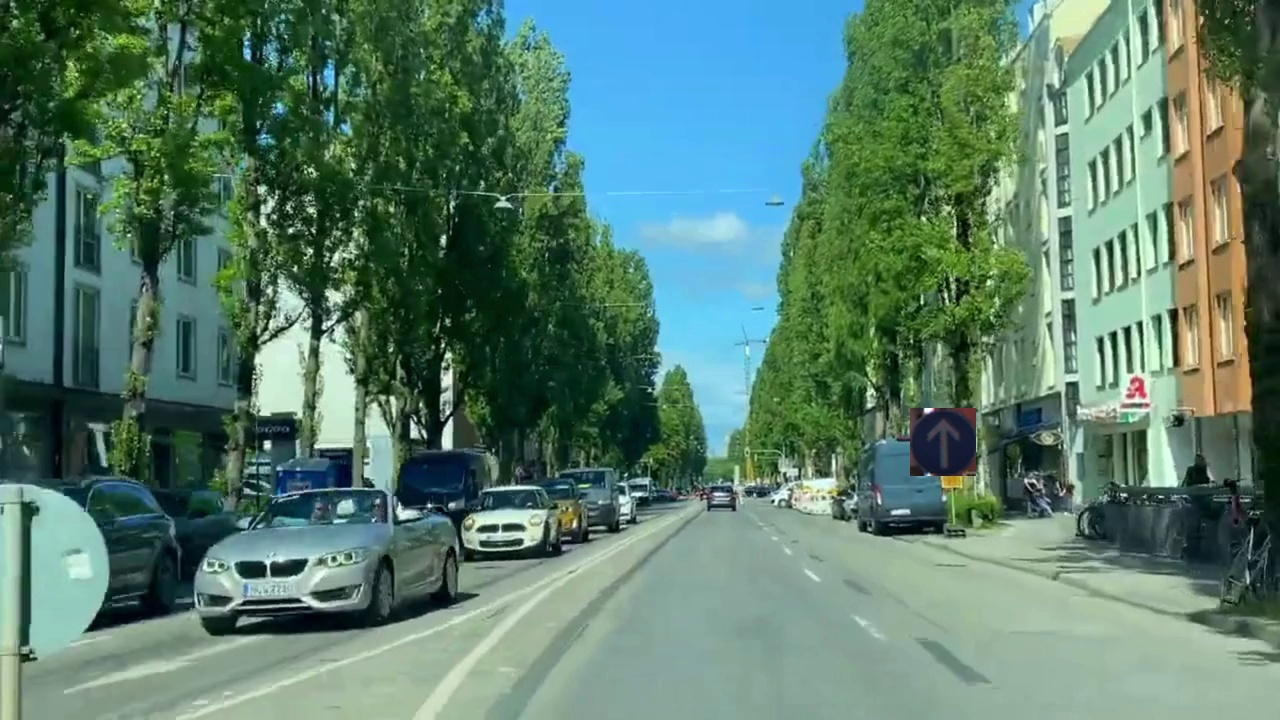Ahead only: (910, 408, 976, 476)
